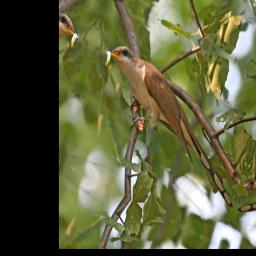Cuckoo: (80, 35, 256, 210)
